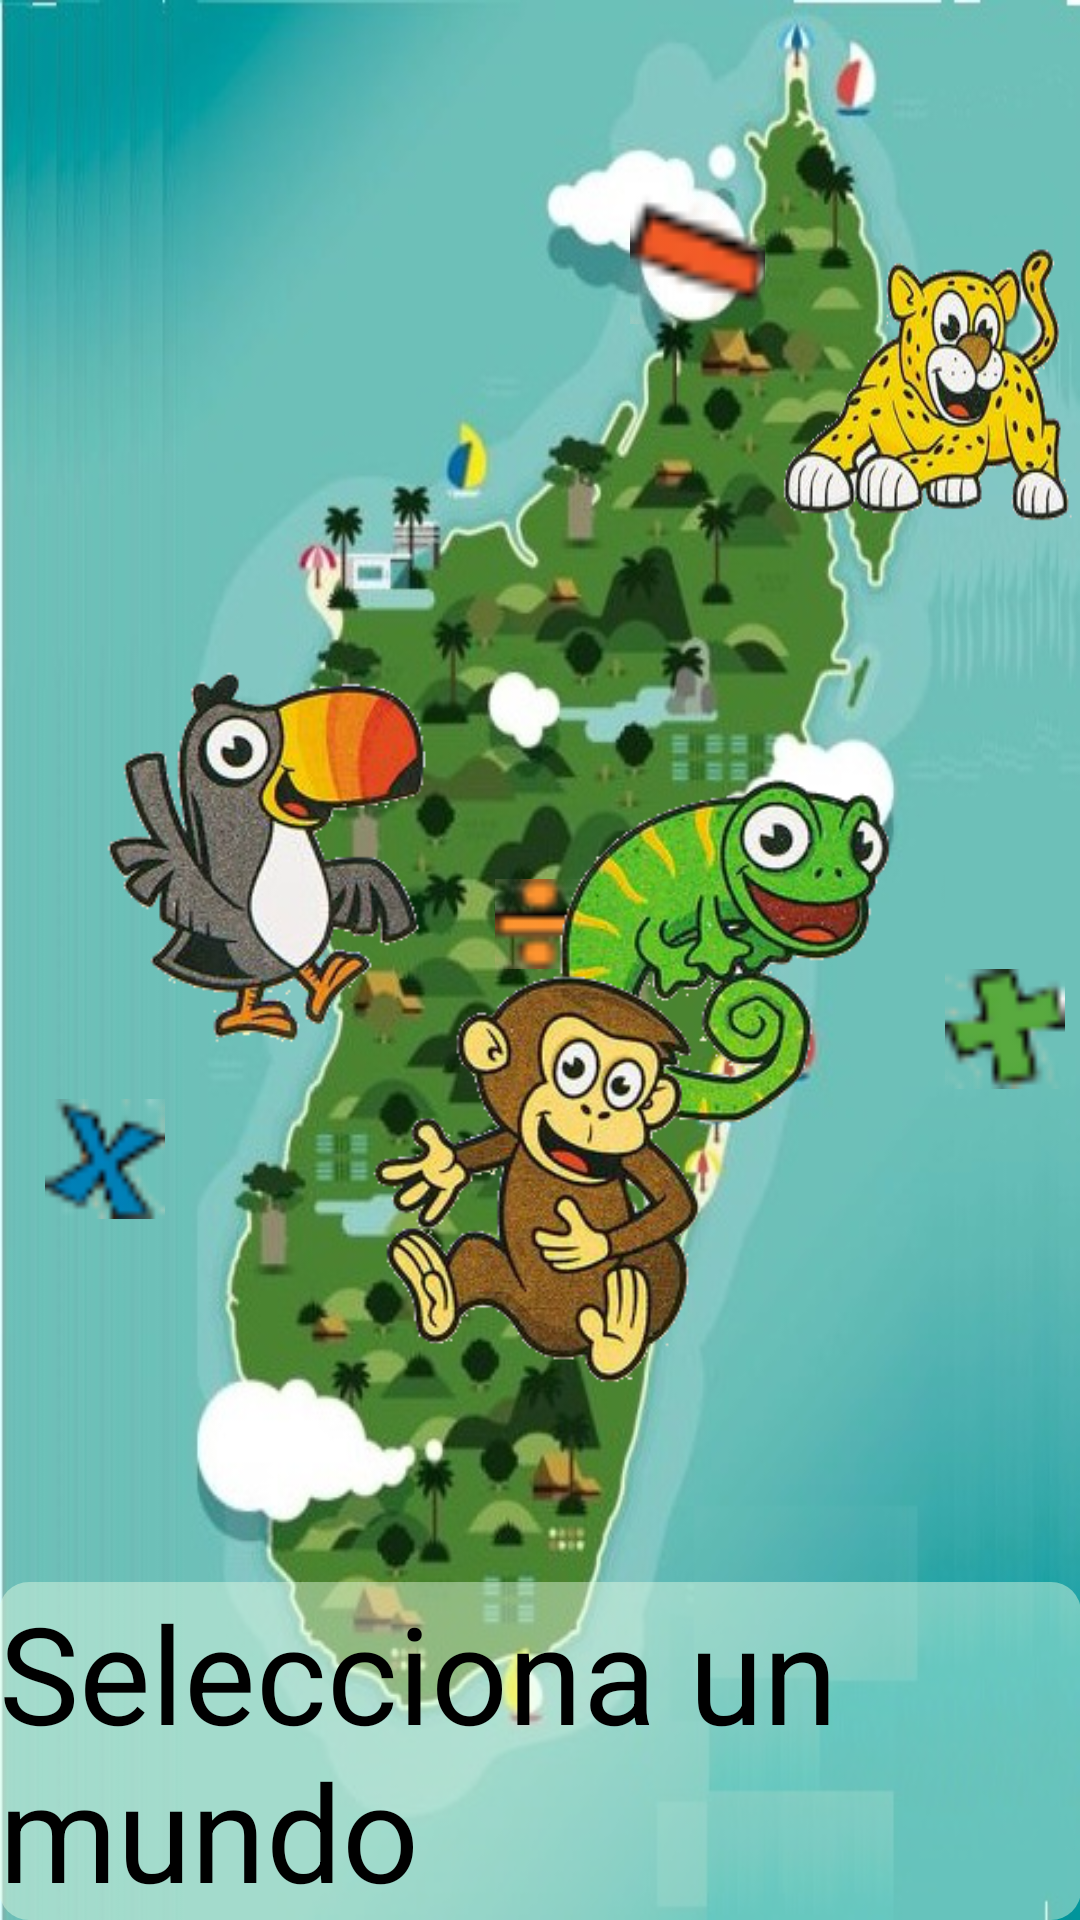

Screen size 1080 × 1920. Icon name, then its center in pixels as point (x, y):
multi: point (105, 1159)
resta: point (697, 256)
suma: point (1005, 1029)
